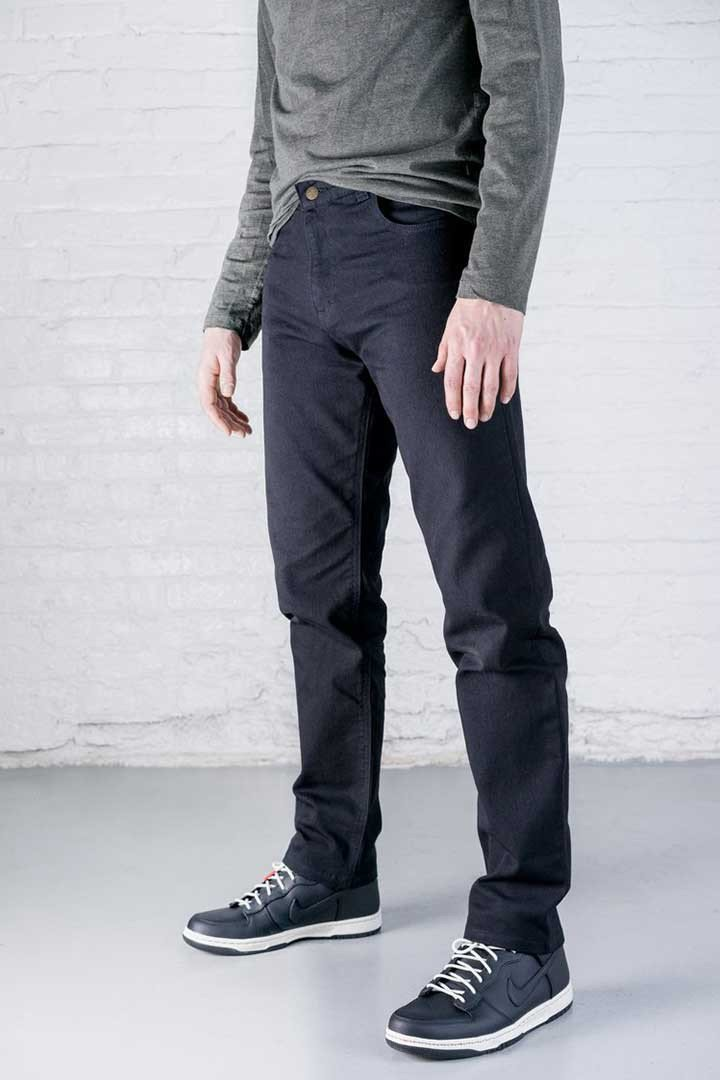Jeans: (248, 185, 584, 948)
